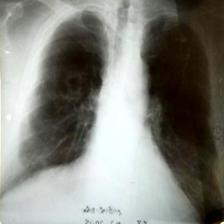tuberculosis: (15, 5, 223, 224)
